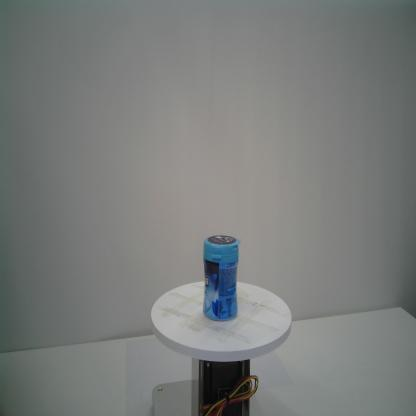Gum: (202, 235, 241, 321)
